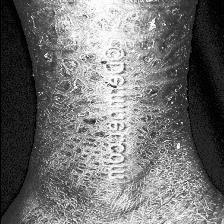Non-Cancerous Skin Condition: (18, 0, 96, 224), (122, 0, 194, 224)
